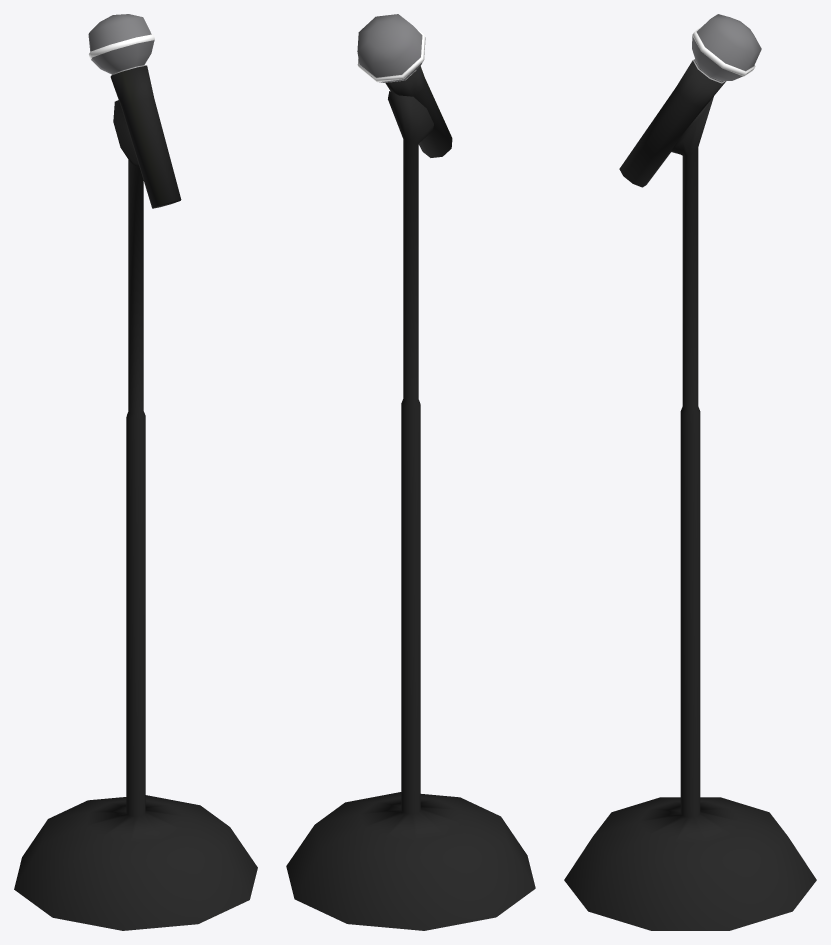
Rendered from MicrophoneStand.glb.
The picture shows the model from 3 angles, left to right: view 1: azimuth 30°, elevation 25°; view 2: azimuth 150°, elevation 25°; view 3: azimuth 270°, elevation 25°; orthographic projection. The views are drawn at different scales.
Visible parts, largest first — view 1: MicrophoneStand; view 2: MicrophoneStand; view 3: MicrophoneStand.
Boxes of the visible parts, <box> form: MicrophoneStand: <box>14,14,257,930</box>; MicrophoneStand: <box>286,14,535,930</box>; MicrophoneStand: <box>564,14,816,930</box>.
Size of the model in its own units: 0.4003 by 1.58 by 0.4209.
Materials: 1 (1 with a texture image).
